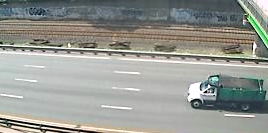car: (185, 72, 267, 114)
